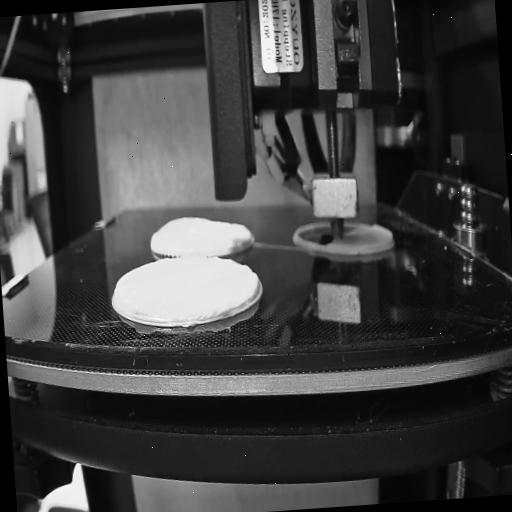over_extrusion: (242, 270, 264, 303)
